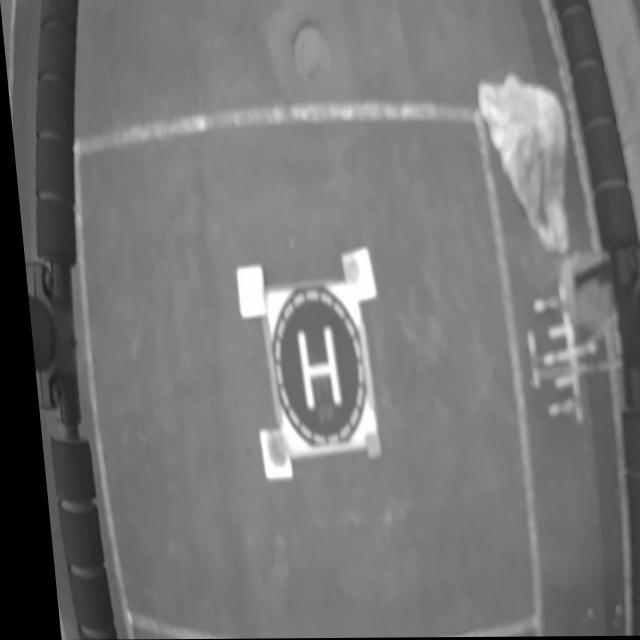Helipad: (290, 328, 336, 413)
